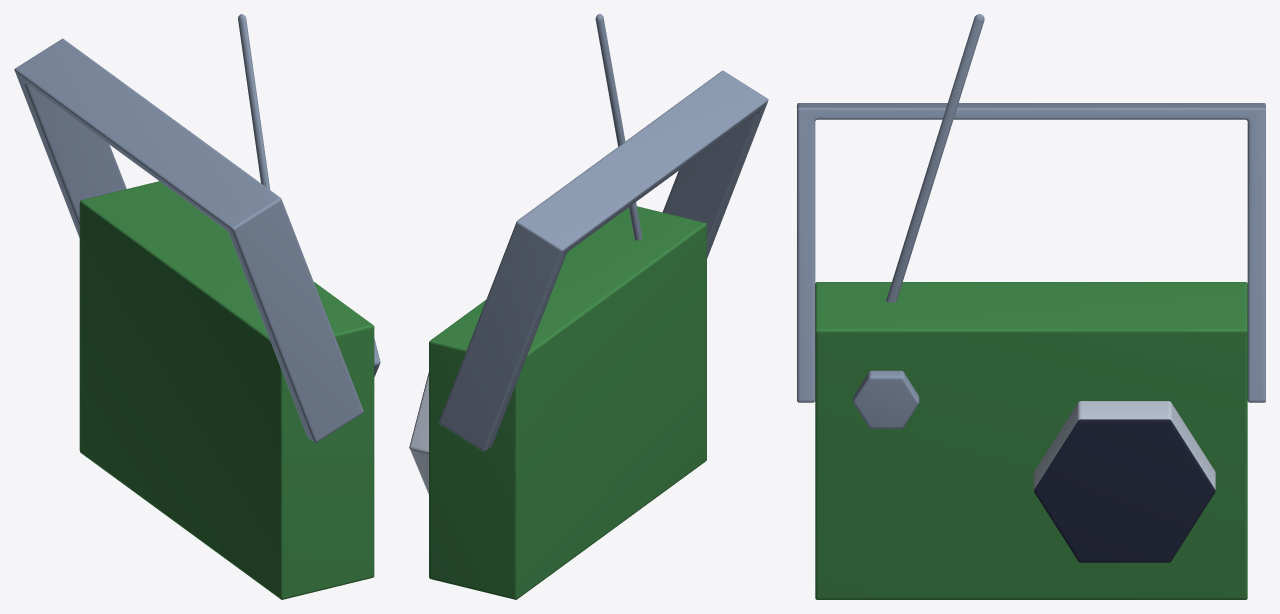
File: radio.glb
The picture shows the model from 3 angles, left to right: view 1: azimuth 30°, elevation 25°; view 2: azimuth 150°, elevation 25°; view 3: azimuth 270°, elevation 25°; orthographic projection. The views are drawn at different scales.
Visible parts, largest first — view 1: Radio; view 2: Radio; view 3: Radio.
Boxes of the visible parts, x1,y1,x2,y2 form: Radio: [14, 14, 380, 599]; Radio: [409, 14, 768, 599]; Radio: [797, 14, 1265, 599].
Size of the model in its own units: 0.1293 by 0.3453 by 0.2634.
1 material, 1 textured.
